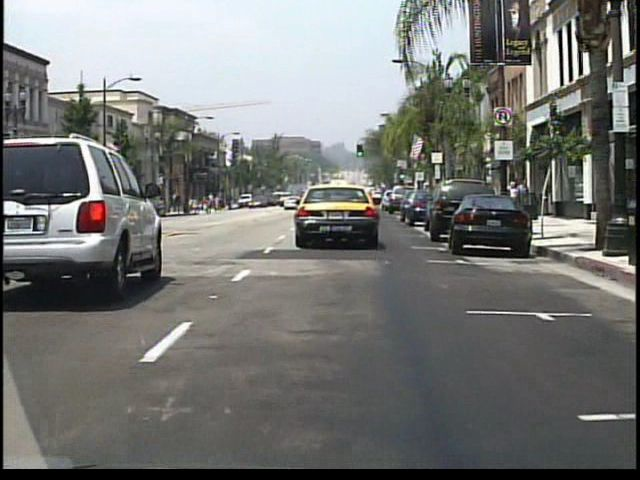person: (515, 174, 533, 221), (505, 179, 519, 216), (223, 195, 230, 211)
